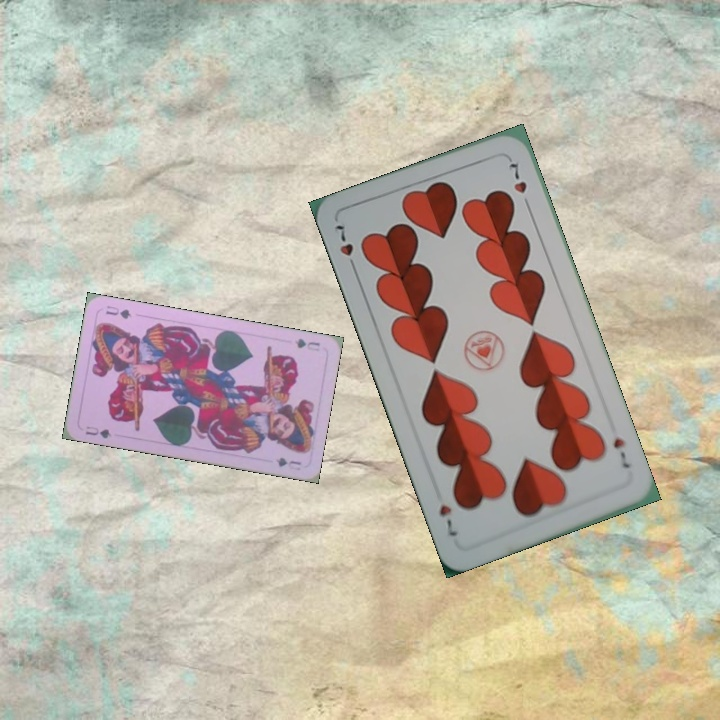GU: (291, 334, 323, 354), (82, 422, 114, 441)
H7: (330, 220, 360, 275), (609, 433, 633, 471)
